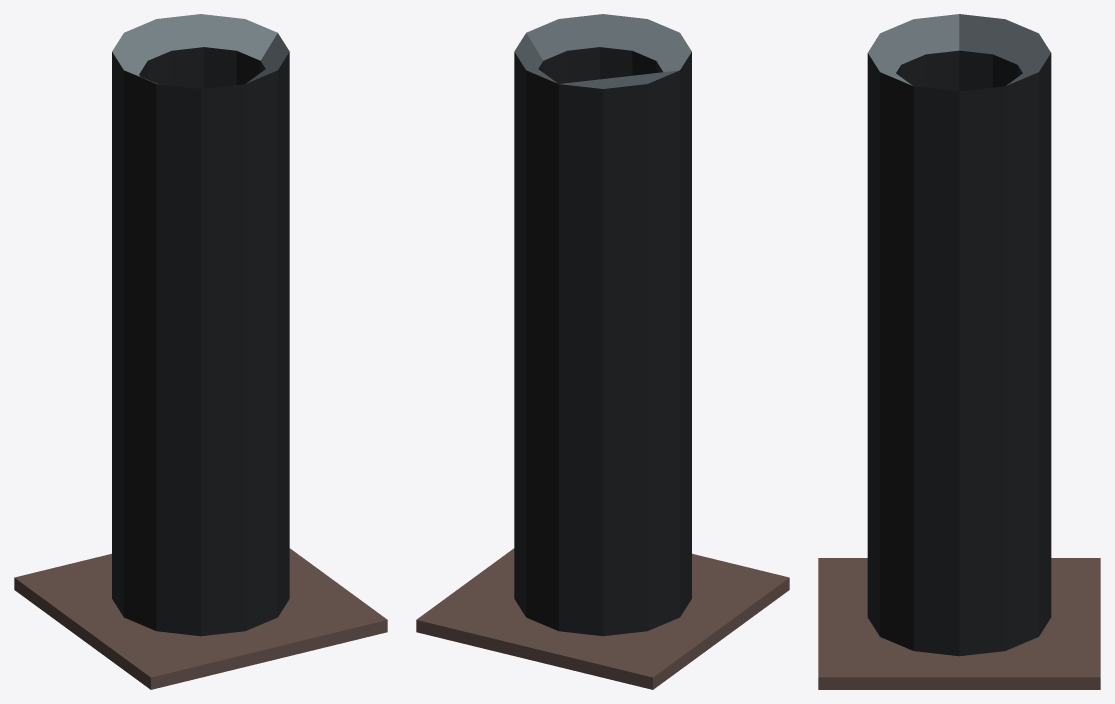
File: 6inchTube.fbx
3 views of the same model, side by side, from view 1: azimuth 30°, elevation 25°; view 2: azimuth 150°, elevation 25°; view 3: azimuth 270°, elevation 25° (orthographic). The views are drawn at different scales.
Visible parts, largest first — view 1: Cylinder, Cube; view 2: Cylinder, Cube; view 3: Cylinder, Cube.
Part boxes in pixels (box(x1,y1,x2,y2)): Cylinder: box(112, 14, 289, 636); Cube: box(14, 548, 387, 689); Cylinder: box(514, 14, 691, 636); Cube: box(416, 548, 789, 689); Cylinder: box(867, 14, 1051, 656); Cube: box(818, 558, 1100, 689).
Bounding box in the file's own units: 0.4 × 0.9034 × 0.4.
